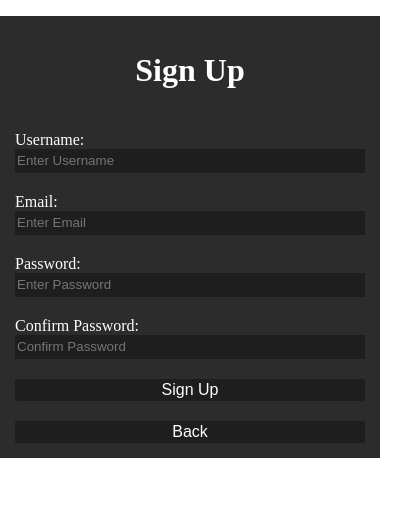
Scenario: Sign Up Component › Error shows if login api fails
In the field labelled "Username": (190, 161) [15, 149, 365, 173], type "test"
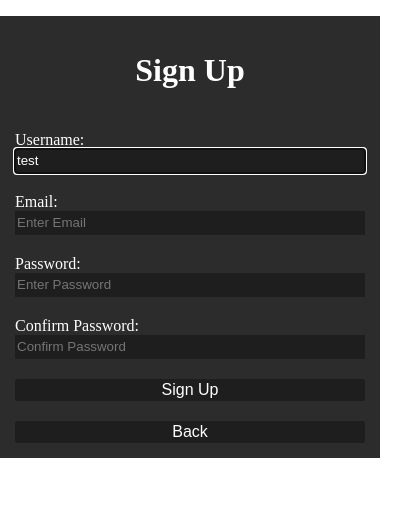
In the password field labelled "Password:": (190, 285) [15, 273, 365, 297], type "test"
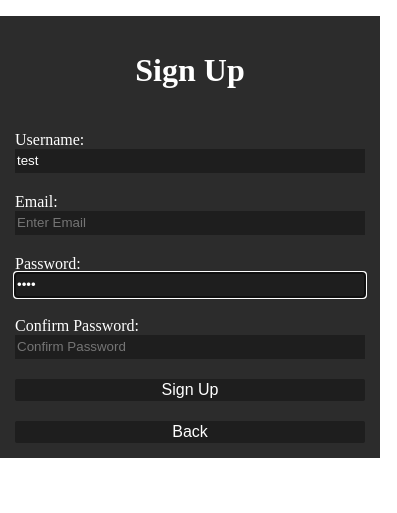
In the password field labelled "Confirm Password:": (190, 347) [15, 335, 365, 359], type "test"
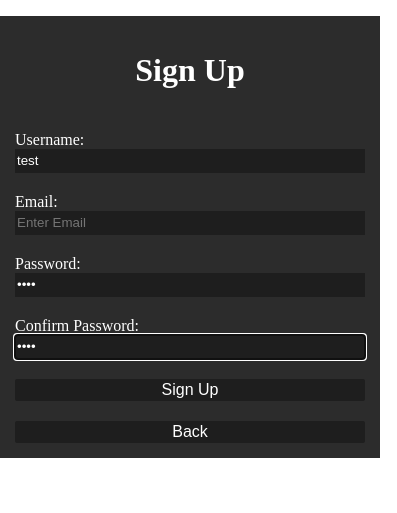
Click the button "Sign Up": (190, 390) [15, 379, 365, 401]
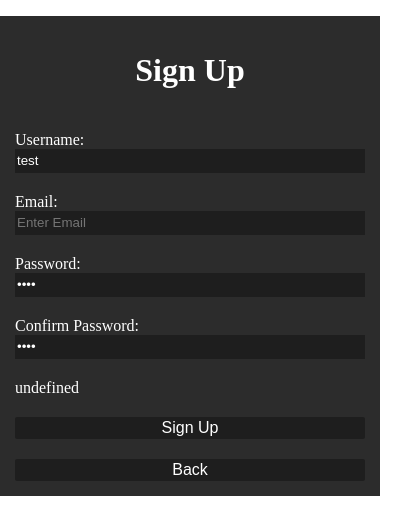
Now the text "undefined" is shown, box [15, 379, 79, 396]
